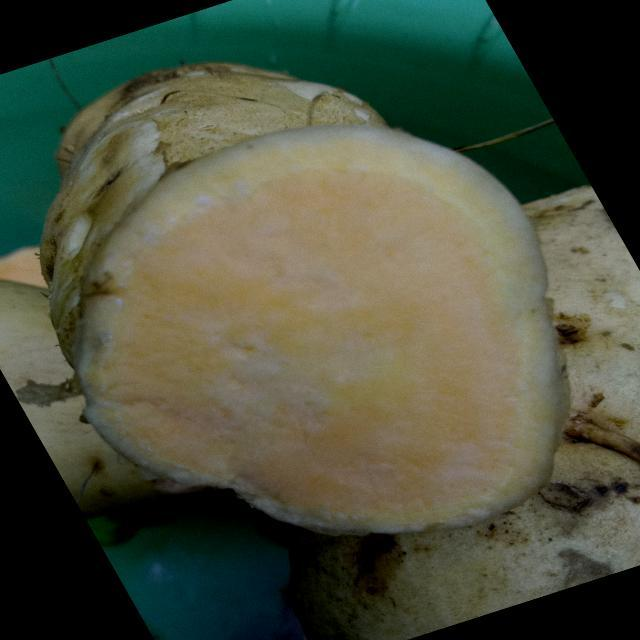Healthy Sweet Potato: (73, 125, 568, 535)
